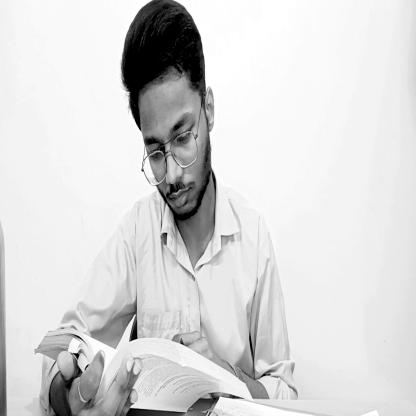Distracted: (121, 2, 213, 232)
